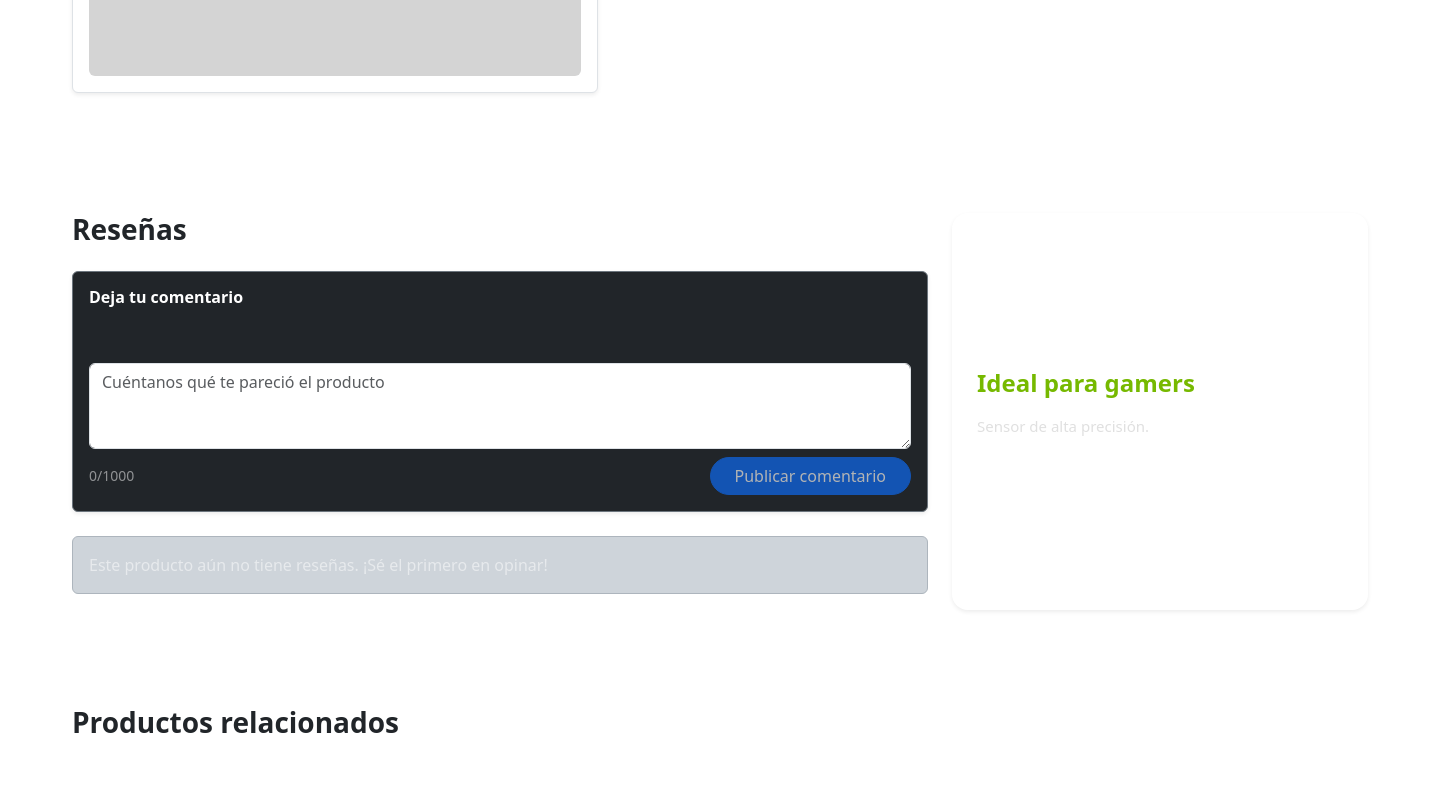
Scenario: DetalleProducto · comentar (usuario registrado) › si el servicio rechaza el comentario muestra el motivo y conserva el texto
(page scrolled)
Type "Hola" into the text box named "Comentario" at (500, 406), box [89,363,911,449]
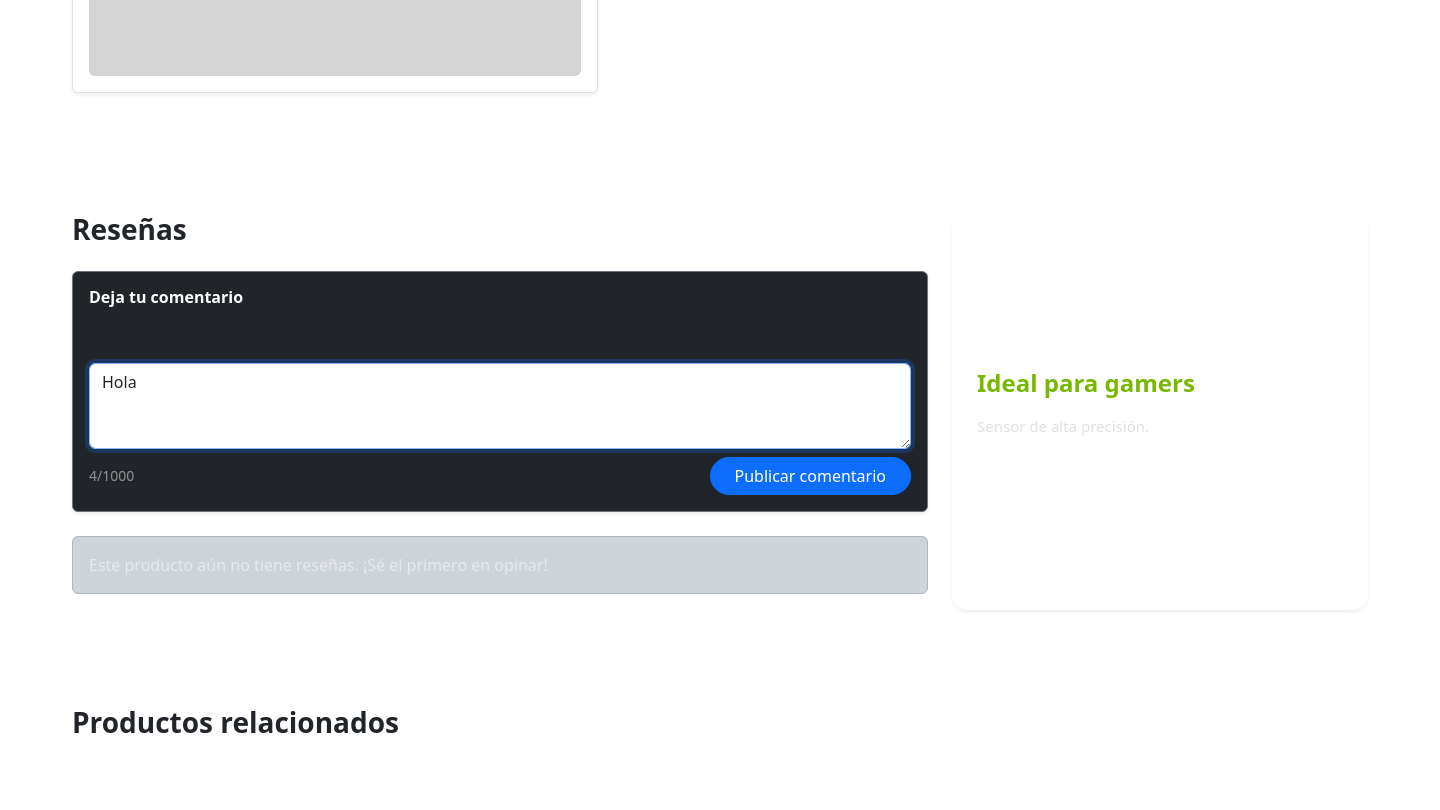
Click the button "Publicar comentario" at (810, 476), box [710,457,911,495]
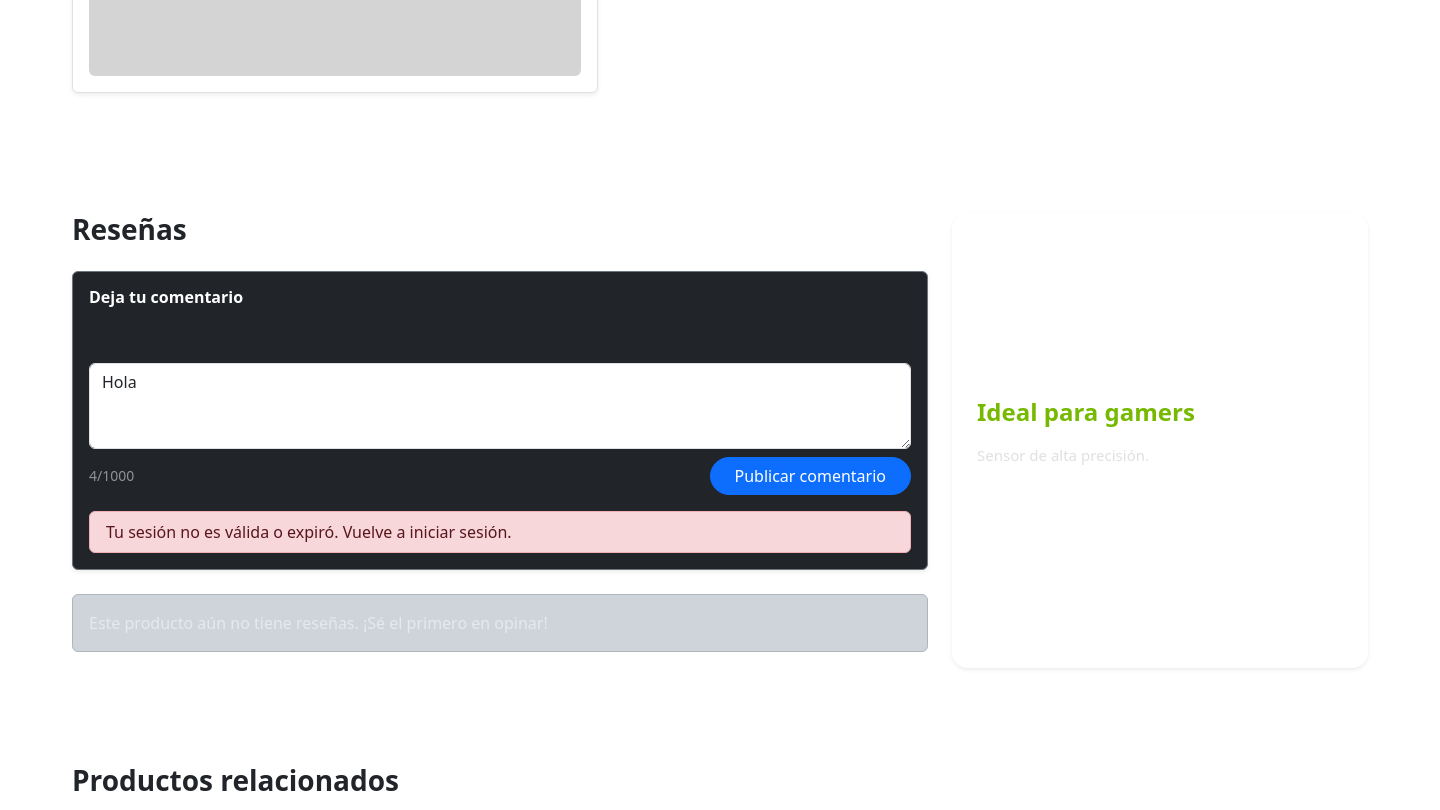
Check: the text "Tu sesión no es válida o expiró. Vuelve a iniciar sesión." is shown, box [89,511,911,553]
